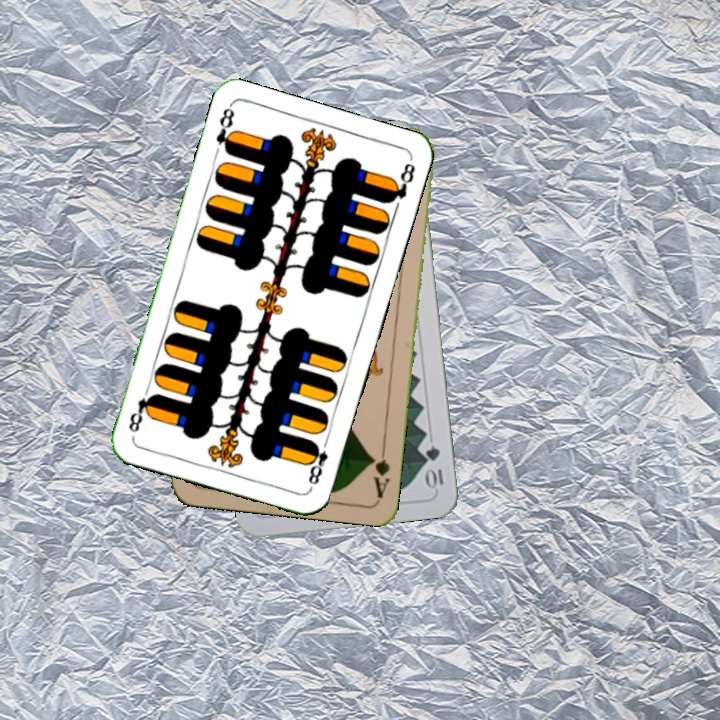E8: (304, 434, 331, 491), (211, 102, 238, 157)
G10: (422, 442, 446, 491)
GA: (367, 441, 393, 500)
